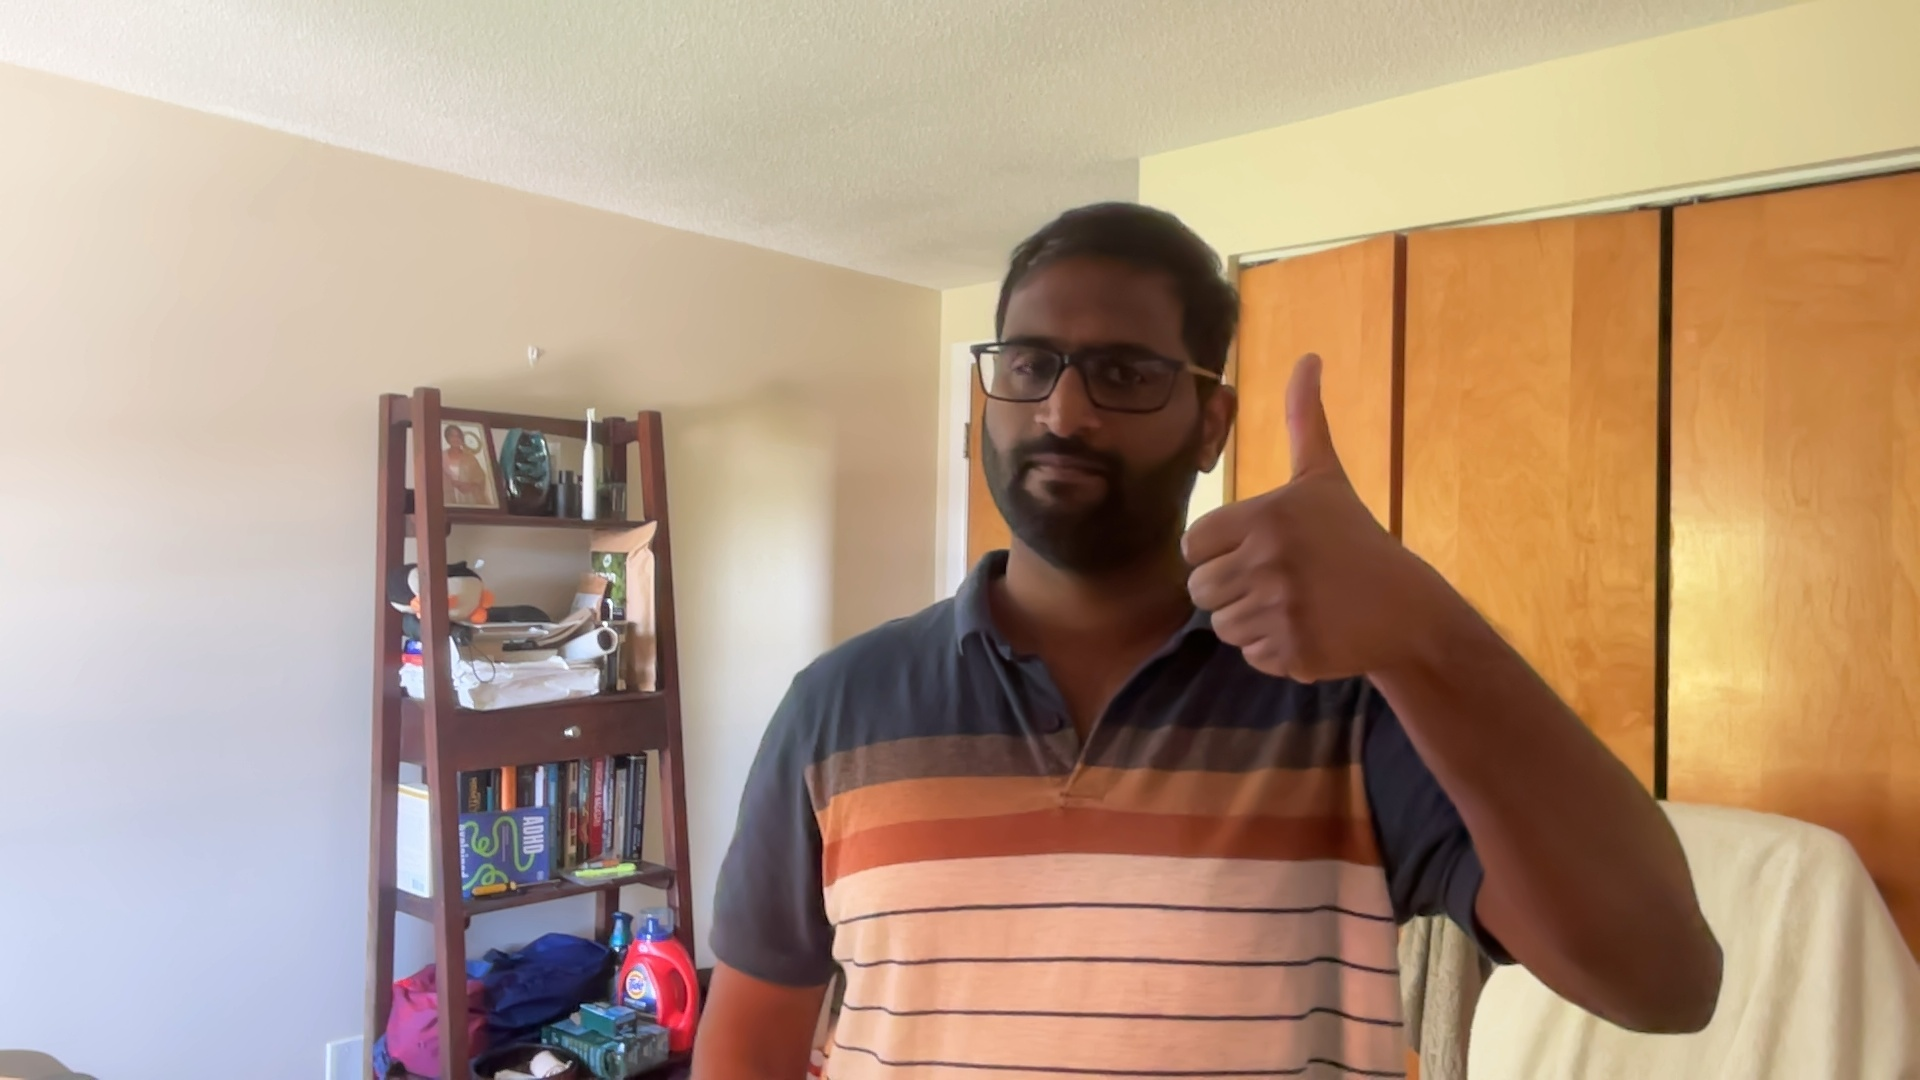ThumbsUp: (1180, 356, 1403, 688)
